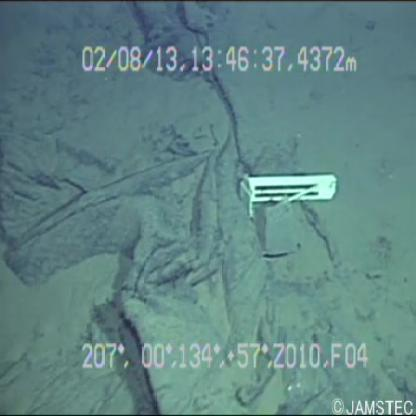Rác: (230, 143, 348, 221)
